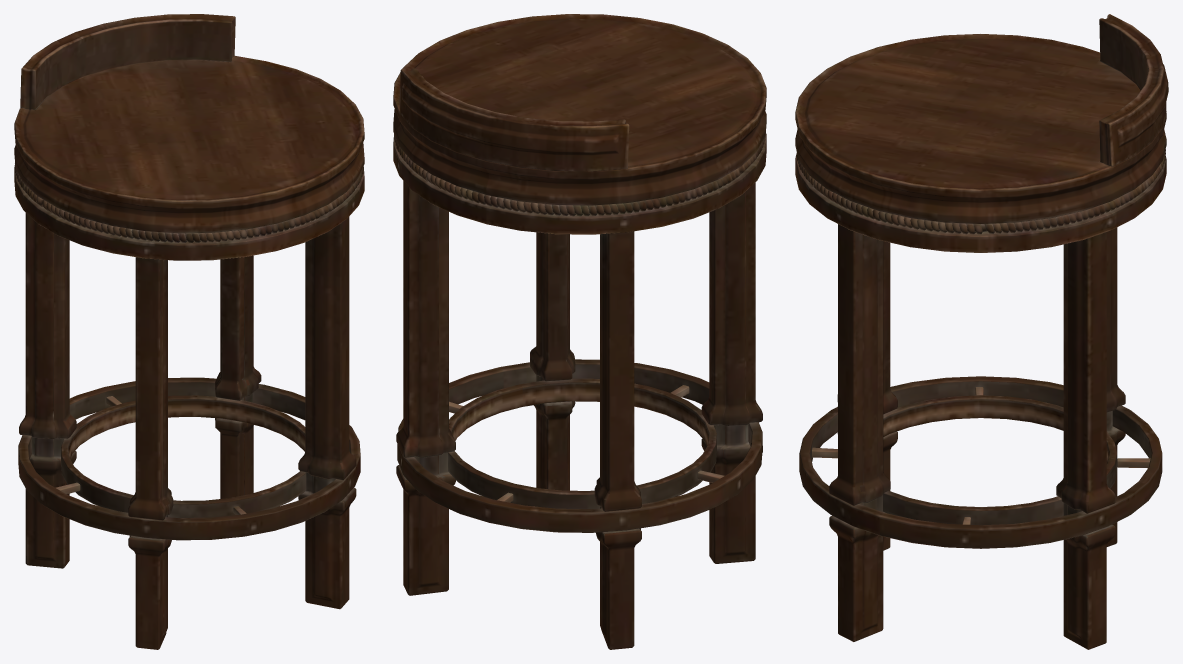
File: bar_chair_round_01.glb
3 renders of one model, left to right at view 1: azimuth 30°, elevation 25°; view 2: azimuth 150°, elevation 25°; view 3: azimuth 270°, elevation 25°, orthographic. The views are drawn at different scales.
Parts seen in each view (by area): view 1: bar_chair_round_01; view 2: bar_chair_round_01; view 3: bar_chair_round_01.
Boxes of the visible parts, <box> form: bar_chair_round_01: <box>14,14,364,649</box>; bar_chair_round_01: <box>393,14,766,649</box>; bar_chair_round_01: <box>795,14,1168,649</box>.
Size of the model in its own units: 0.4832 by 0.7505 by 0.486.
Materials: 1 (1 with a texture image).
